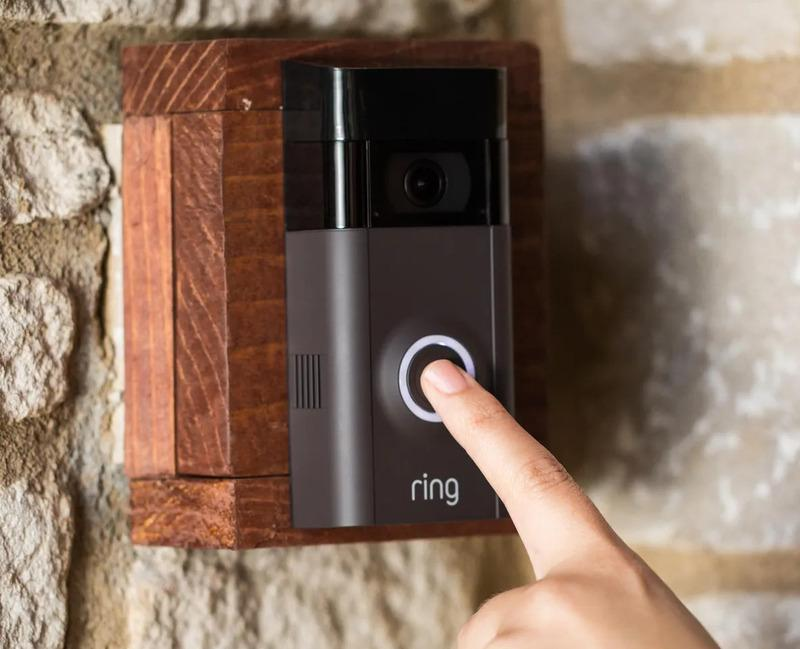doorbell: (284, 43, 515, 538)
